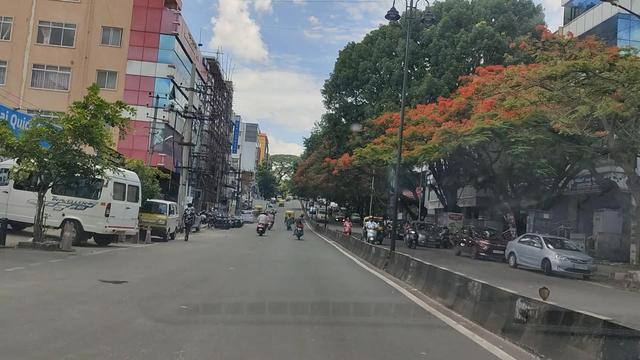RoadDamages: (94, 273, 134, 289)
